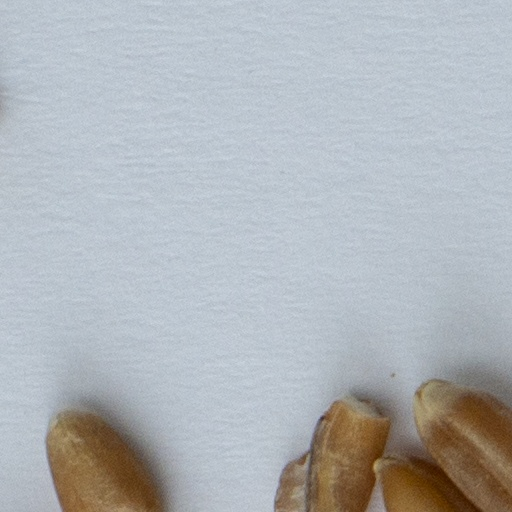Wheat-grain-poly: (45, 410, 163, 511)
